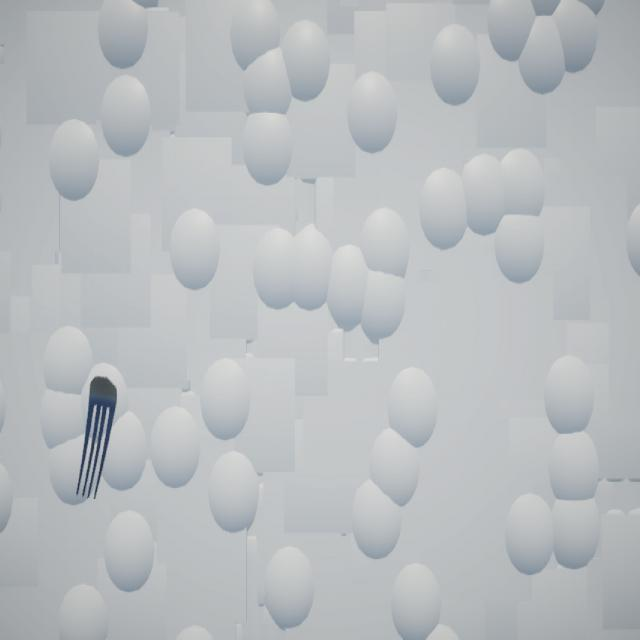top_folk: (77, 376, 118, 500)
